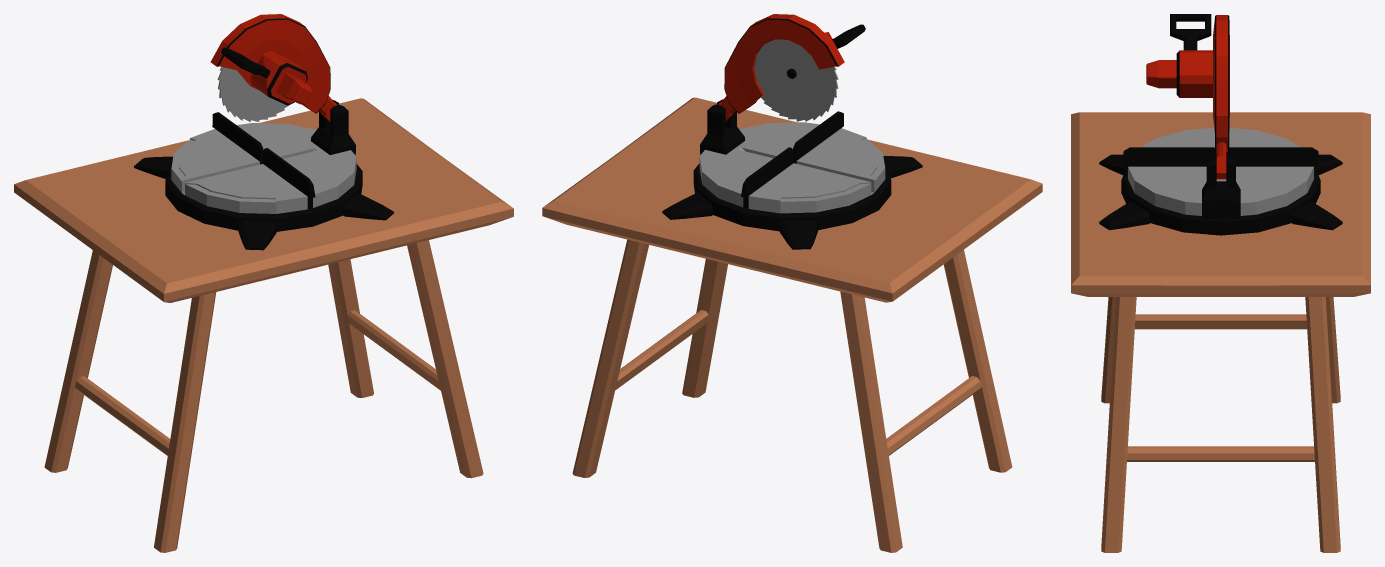
3 views of the same model, side by side, from view 1: azimuth 30°, elevation 25°; view 2: azimuth 150°, elevation 25°; view 3: azimuth 270°, elevation 25° (orthographic).
Visible parts, largest first — view 1: Tisch, Kreissäge; view 2: Tisch, Kreissäge; view 3: Tisch, Kreissäge.
Boxes of the visible parts, <box> form: Tisch: <box>14,98,513,552</box>; Kreissäge: <box>134,14,393,250</box>; Tisch: <box>542,97,1042,552</box>; Kreissäge: <box>662,14,922,249</box>; Tisch: <box>1071,112,1370,552</box>; Kreissäge: <box>1099,14,1342,235</box>.
Bounding box in the file's own units: 1.07 × 1.32 × 0.7915.
